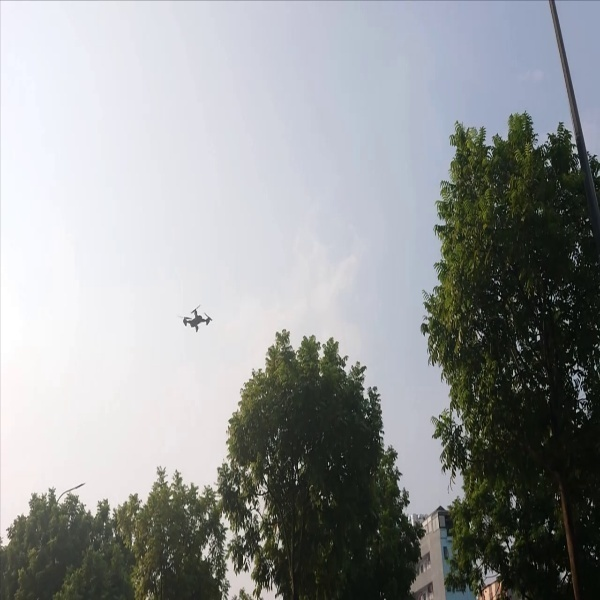drone: (174, 297, 214, 341)
